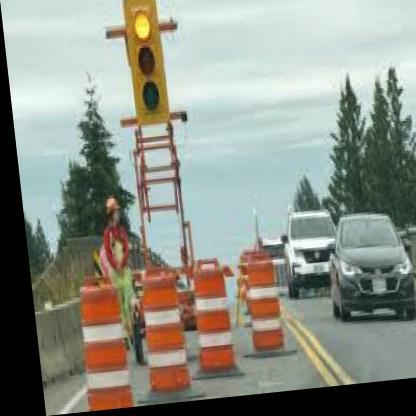obstacle: (67, 285, 125, 413), (128, 278, 180, 398), (232, 255, 278, 359), (183, 267, 223, 379)
